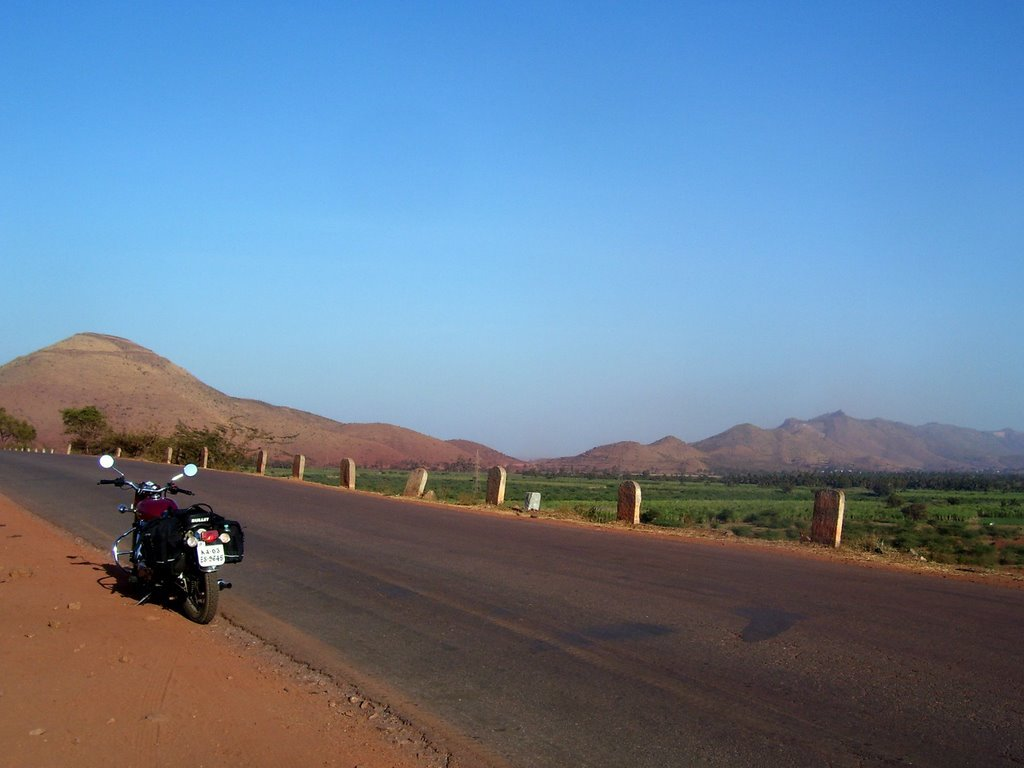Tree: (60, 396, 115, 444), (0, 406, 37, 450)
